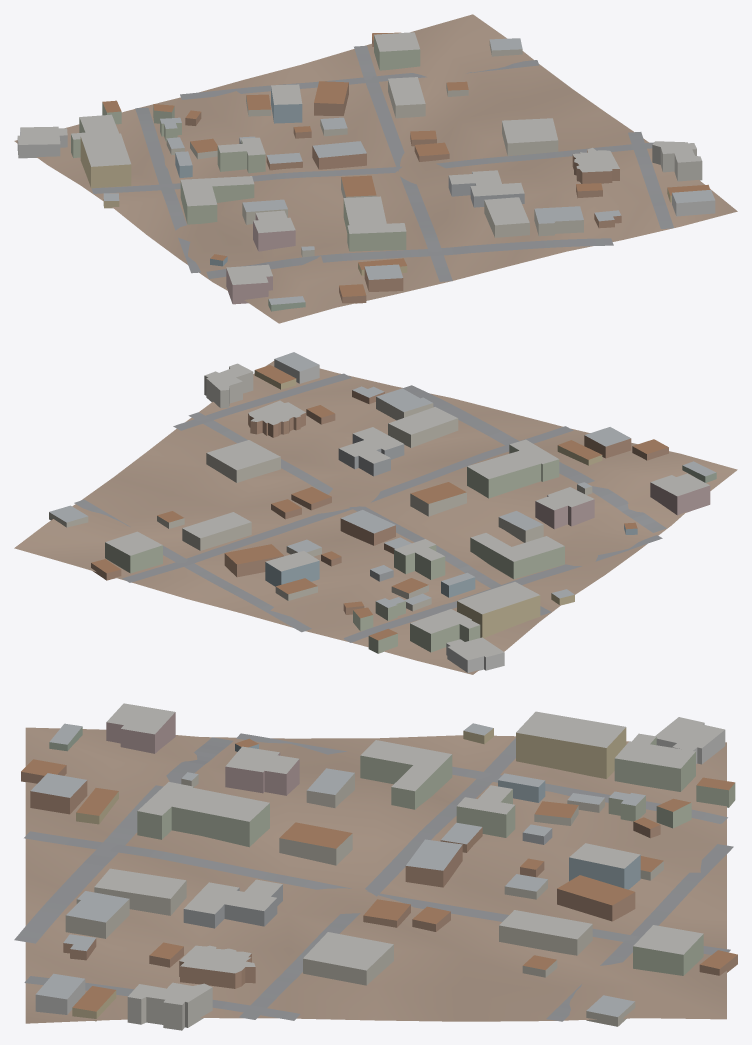
The picture shows the model from 3 angles, top to bottom: view 1: azimuth 30°, elevation 25°; view 2: azimuth 150°, elevation 25°; view 3: azimuth 270°, elevation 25°; orthographic projection. The views are drawn at different scales.
Parts seen in each view (by area): view 1: Lo; view 2: Lo; view 3: Lo.
Boxes of the visible parts, x1,y1,x2,y2 form: Lo: (14, 14, 737, 323); Lo: (14, 352, 737, 674); Lo: (14, 703, 737, 1030).
Size of the model in its own units: 272 by 17.98 by 264.
